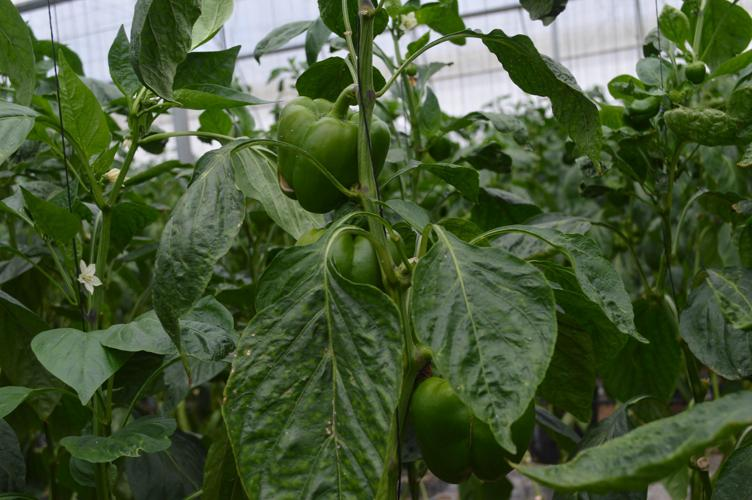BellPepper: (271, 96, 392, 211), (412, 379, 529, 485), (295, 227, 406, 300)
